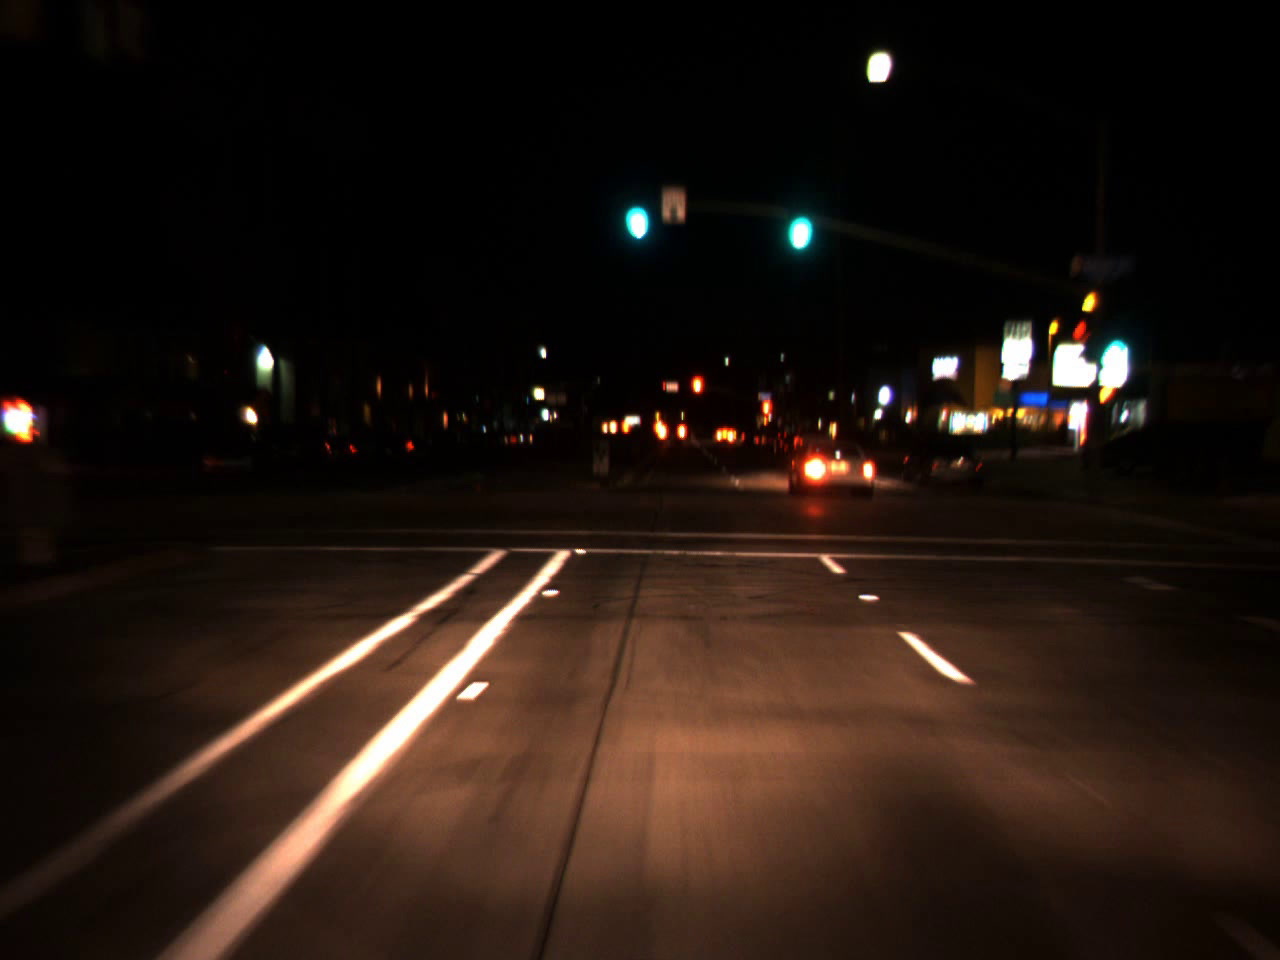go: (615, 164, 654, 251), (776, 179, 817, 260), (1094, 326, 1130, 374)
stop: (690, 373, 705, 416), (761, 397, 771, 437)
